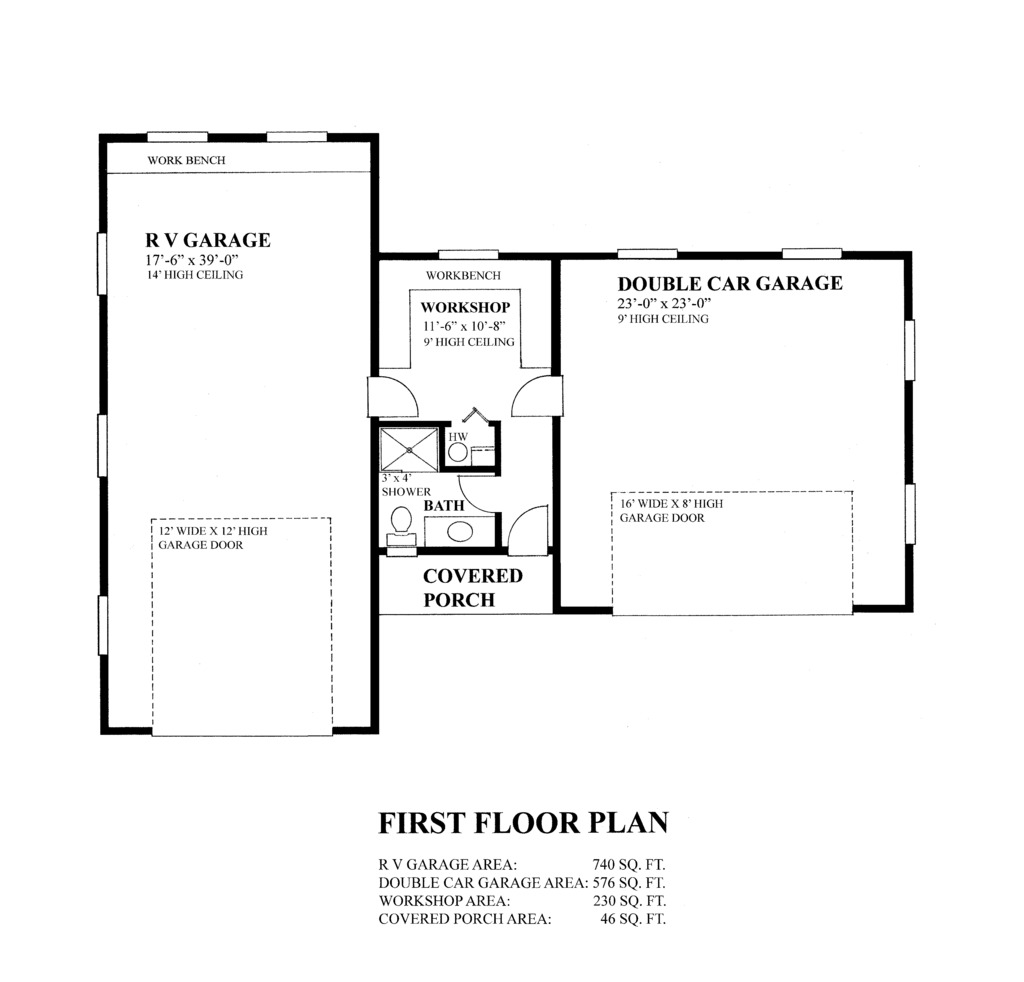door: (500, 502, 563, 566), (505, 372, 572, 429), (356, 374, 430, 423), (451, 469, 509, 514)
large_sink: (384, 499, 424, 560)
small_sink: (429, 514, 497, 541)
window: (612, 244, 687, 275), (430, 242, 503, 266), (145, 120, 206, 147), (264, 124, 324, 151), (93, 414, 111, 478), (900, 321, 918, 383), (776, 241, 839, 256), (906, 481, 920, 542), (99, 592, 111, 659), (97, 235, 108, 293)
